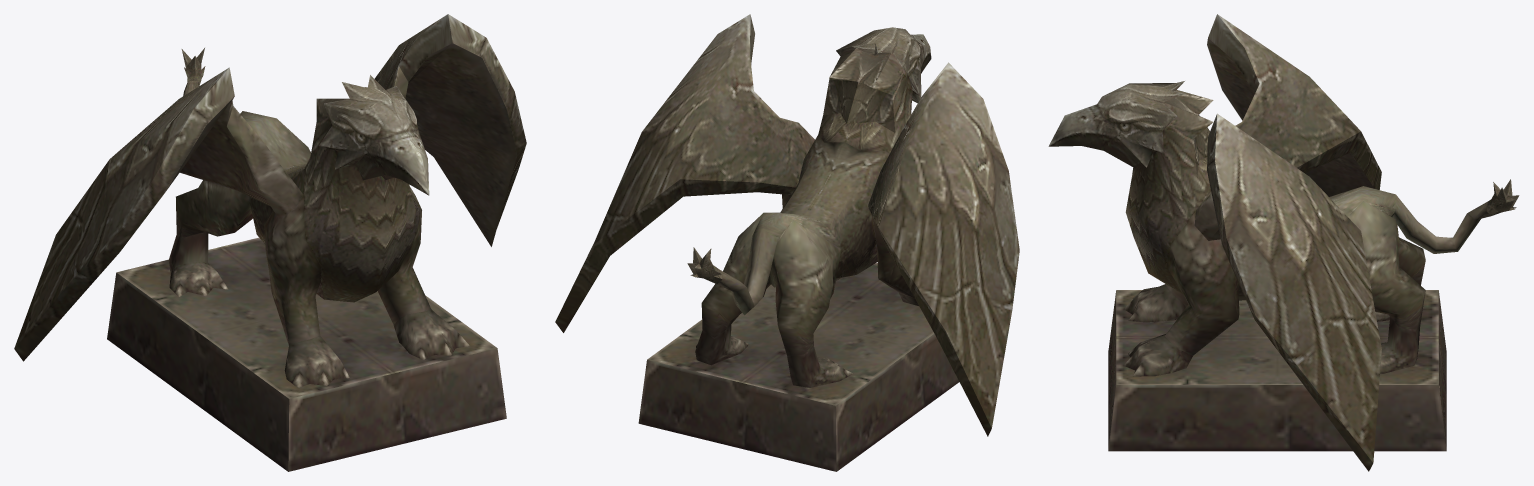
The model's file is common_city_diaoshushijiu.FBX.
The picture shows the model from 3 angles, left to right: view 1: azimuth 30°, elevation 25°; view 2: azimuth 150°, elevation 25°; view 3: azimuth 270°, elevation 25°; orthographic projection. The views are drawn at different scales.
Parts seen in each view (by area): view 1: common_city_diaoshushijiu; view 2: common_city_diaoshushijiu; view 3: common_city_diaoshushijiu.
Part boxes in pixels (bbox=[...]): common_city_diaoshushijiu: bbox=[14, 14, 526, 471]; common_city_diaoshushijiu: bbox=[555, 14, 1019, 471]; common_city_diaoshushijiu: bbox=[1048, 14, 1519, 471].
Size of the model in its own units: 3.65 by 3.32 by 2.62.
